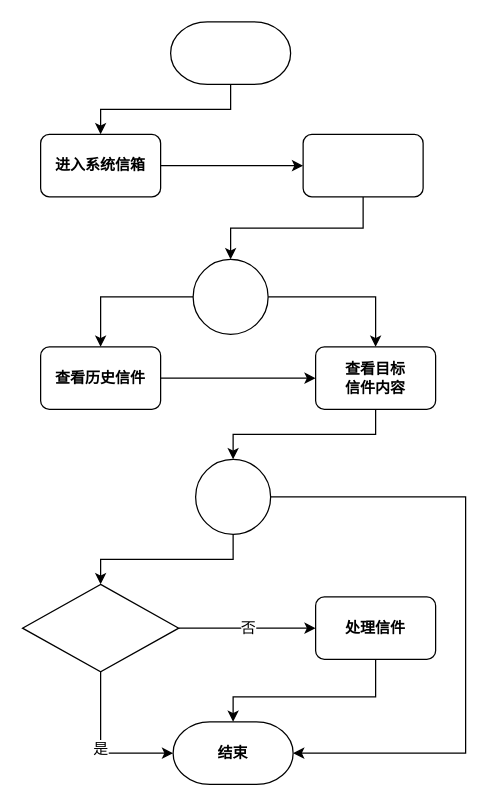
Some shapes in this 498 by 806 pixel diagram are drawn without their labels. Each missing label, with the box of its shape:
开始: (169, 21, 291, 84)
是否已处理？: (21, 583, 179, 672)
查看未处理信件: (302, 133, 423, 197)
